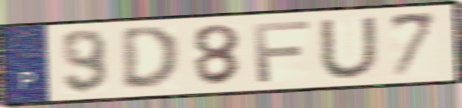7: (388, 9, 439, 81)
8: (190, 22, 244, 88)
9: (58, 27, 111, 96)
D: (118, 24, 184, 92)
F: (251, 18, 313, 85)
U: (315, 14, 382, 81)
